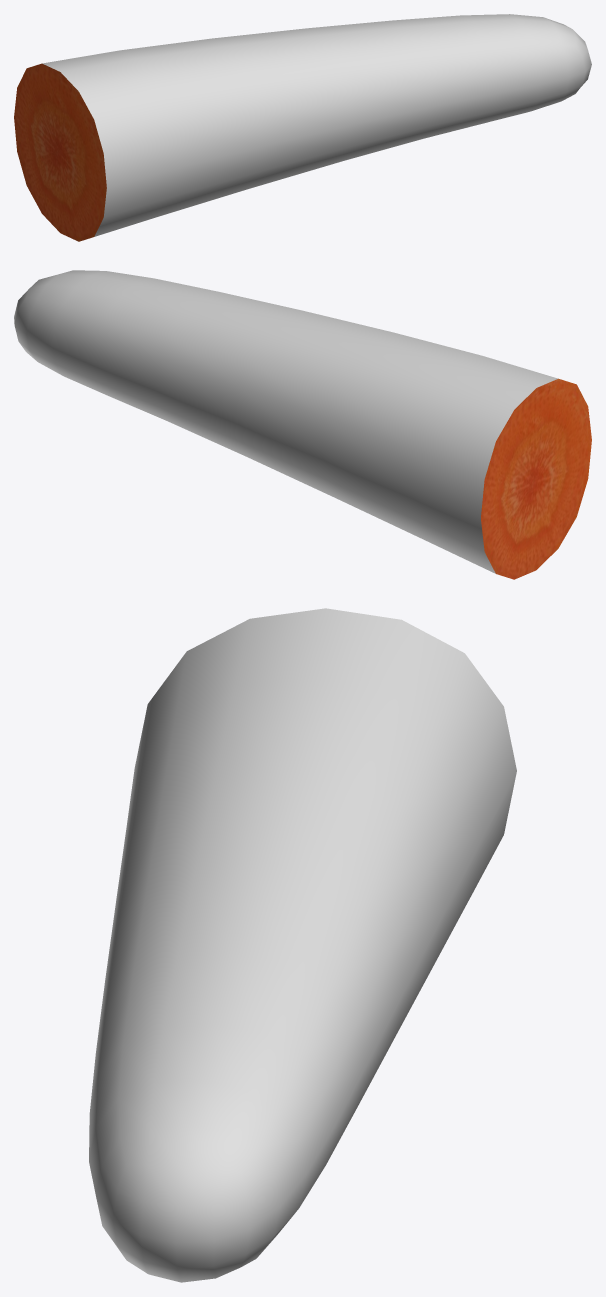
Rendered from CarrotEnd.fbx.
3 renders of one model, top to bottom at view 1: azimuth 30°, elevation 25°; view 2: azimuth 150°, elevation 25°; view 3: azimuth 270°, elevation 25°, orthographic. The views are drawn at different scales.
Visible parts, largest first — view 1: Carrot3.004, Carrot3.005; view 2: Carrot3.004, Carrot3.005; view 3: Carrot3.004.
Part boxes in pixels (x1=…): Carrot3.004: x1=42, y1=14, x2=591, y2=236; Carrot3.005: x1=14, y1=63, x2=106, y2=241; Carrot3.004: x1=14, y1=270, x2=557, y2=573; Carrot3.005: x1=481, y1=378, x2=591, y2=579; Carrot3.004: x1=89, y1=608, x2=516, y2=1282.
Bounding box in the file's own units: 7.64 × 2.39 × 2.87.
Materials: 2 (1 with a texture image).
